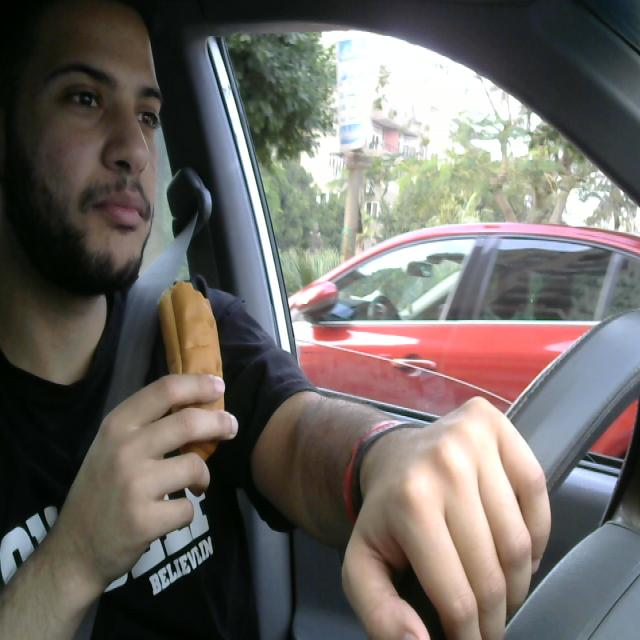eating: (154, 276, 229, 477)
